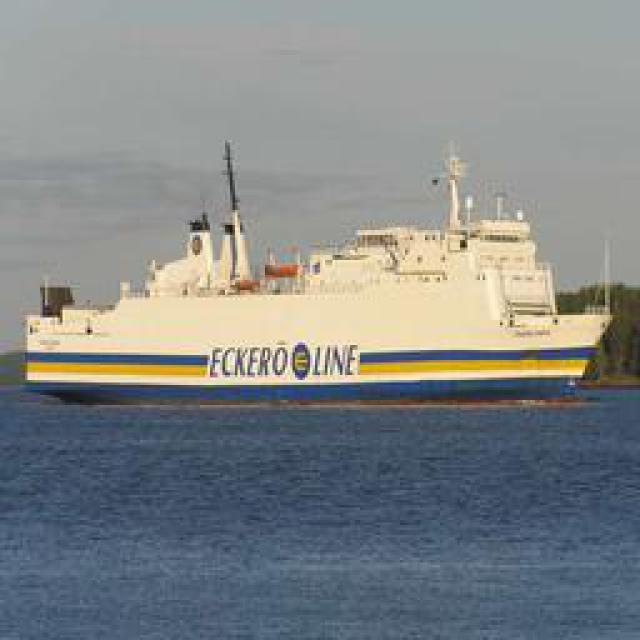Ship: (23, 133, 611, 401)
